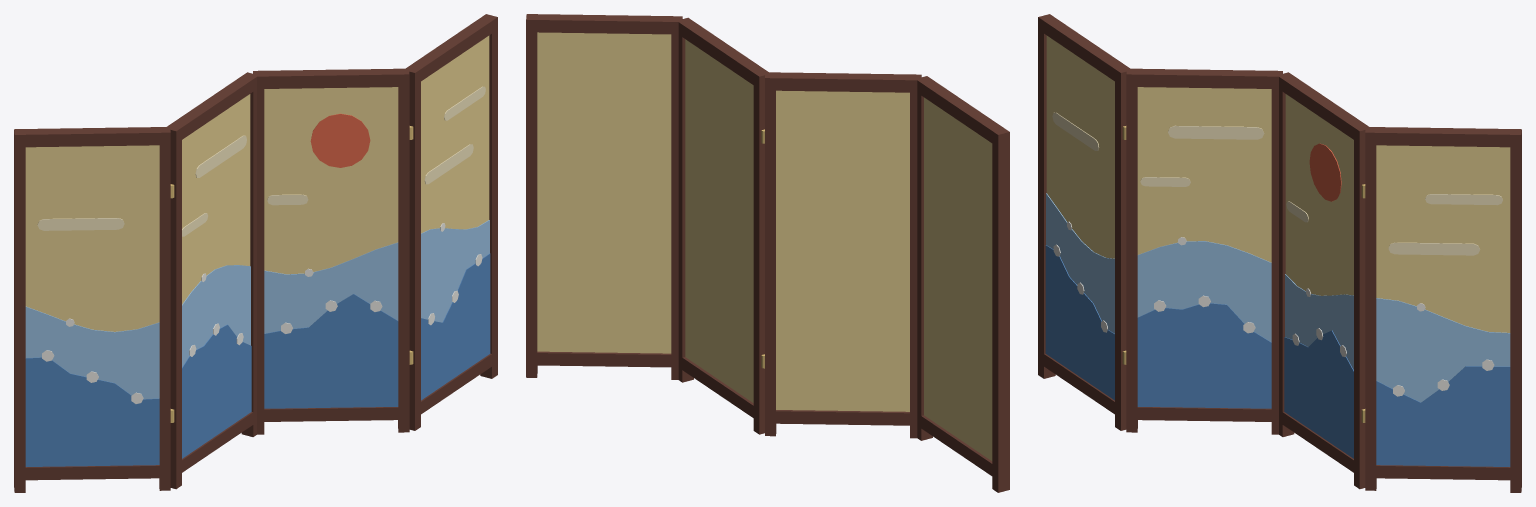
File: furn_byobu.glb
3 renders of one model, left to right at view 1: azimuth 30°, elevation 25°; view 2: azimuth 150°, elevation 25°; view 3: azimuth 330°, elevation 25°, orthographic.
Visible parts, largest first — view 1: furn_byobu_body; view 2: furn_byobu_body; view 3: furn_byobu_body.
Boxes of the visible parts, bbox=[...] form: furn_byobu_body: bbox=[14, 14, 497, 492]; furn_byobu_body: bbox=[526, 14, 1009, 492]; furn_byobu_body: bbox=[1038, 14, 1521, 492].
Bounding box in the file's own units: 1.21 × 0.86 × 0.1861.
